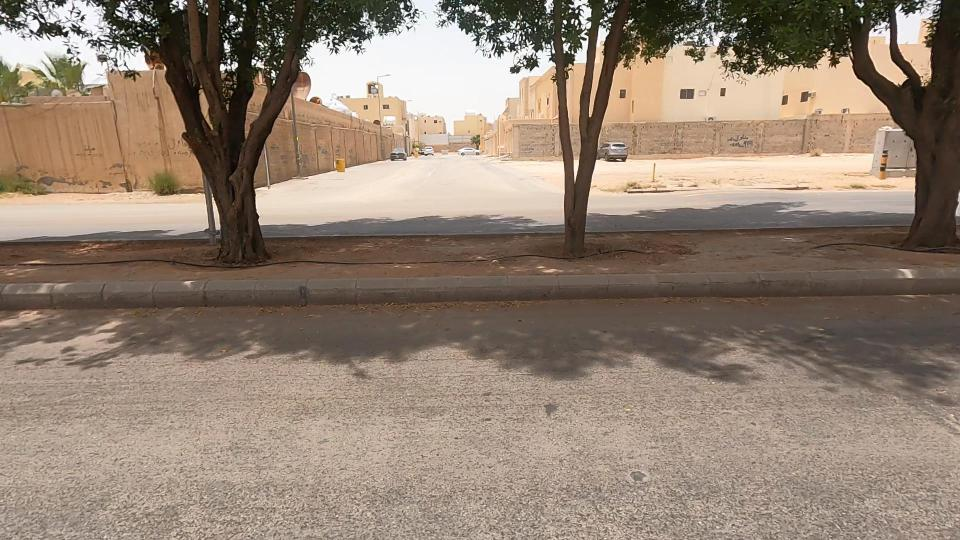CLUTTER_SIDEWALK: (503, 162, 900, 325), (203, 200, 556, 311), (0, 209, 260, 315)
